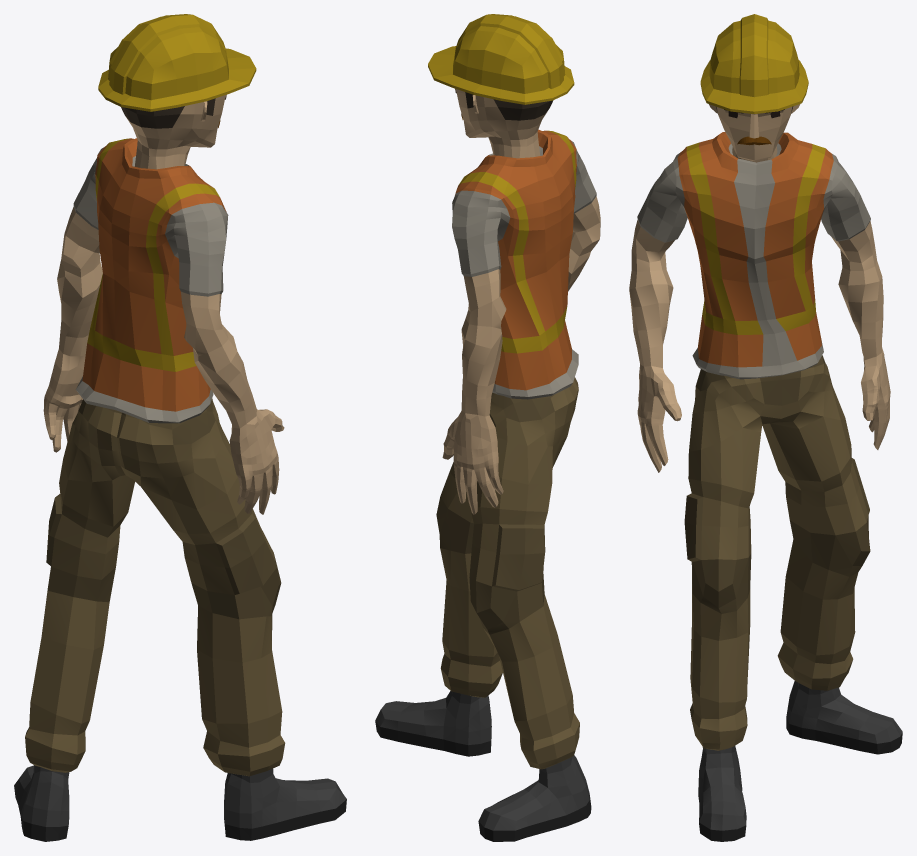
The model's file is arbeider.glb.
The picture shows the model from 3 angles, left to right: view 1: azimuth 30°, elevation 25°; view 2: azimuth 150°, elevation 25°; view 3: azimuth 270°, elevation 25°; orthographic projection. The views are drawn at different scales.
Size of the model in its own units: 0.6201 by 1.78 by 0.5868.
